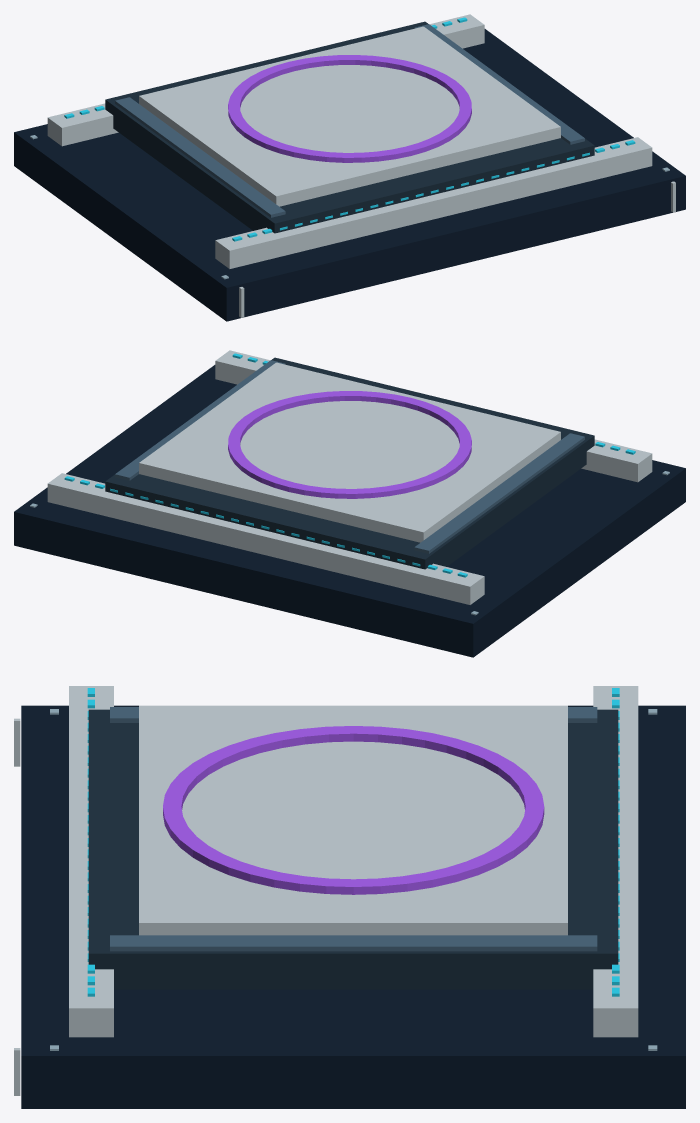
File: 20_L74_PrecisionReticleMotionStage.fbx
3 renders of one model, top to bottom at view 1: azimuth 30°, elevation 25°; view 2: azimuth 150°, elevation 25°; view 3: azimuth 270°, elevation 25°, orthographic. The views are drawn at different scales.
Parts seen in each view (by area): view 1: PrecisionReticleMotionStage, PrecisionReticleMotionStage_Part_0066, PrecisionReticleMotionStage_Part_0063, PrecisionReticleMotionStage_Part_0067, PrecisionReticleMotionStage_Part_0064, PrecisionReticleMotionStage_Part_0065; view 2: PrecisionReticleMotionStage, PrecisionReticleMotionStage_Part_0066, PrecisionReticleMotionStage_Part_0063, PrecisionReticleMotionStage_Part_0067, PrecisionReticleMotionStage_Part_0064, PrecisionReticleMotionStage_Part_0065; view 3: PrecisionReticleMotionStage, PrecisionReticleMotionStage_Part_0066, PrecisionReticleMotionStage_Part_0063, PrecisionReticleMotionStage_Part_0067, PrecisionReticleMotionStage_Part_0065, PrecisionReticleMotionStage_Part_0064.
Part boxes in pixels (left/top/right/bottom): PrecisionReticleMotionStage: left=14, top=14, right=685, bottom=321; PrecisionReticleMotionStage_Part_0066: left=139, top=26, right=560, bottom=206; PrecisionReticleMotionStage_Part_0063: left=105, top=21, right=594, bottom=233; PrecisionReticleMotionStage_Part_0067: left=228, top=55, right=471, bottom=162; PrecisionReticleMotionStage_Part_0064: left=115, top=97, right=285, bottom=217; PrecisionReticleMotionStage_Part_0065: left=414, top=24, right=584, bottom=144; PrecisionReticleMotionStage: left=14, top=350, right=685, bottom=657; PrecisionReticleMotionStage_Part_0066: left=139, top=362, right=560, bottom=542; PrecisionReticleMotionStage_Part_0063: left=105, top=357, right=594, bottom=569; PrecisionReticleMotionStage_Part_0067: left=228, top=391, right=471, bottom=498; PrecisionReticleMotionStage_Part_0064: left=414, top=433, right=584, bottom=553; PrecisionReticleMotionStage_Part_0065: left=115, top=360, right=285, bottom=480; PrecisionReticleMotionStage: left=14, top=686, right=685, bottom=1108; PrecisionReticleMotionStage_Part_0066: left=139, top=705, right=567, bottom=935; PrecisionReticleMotionStage_Part_0063: left=88, top=709, right=618, bottom=989; PrecisionReticleMotionStage_Part_0067: left=163, top=726, right=544, bottom=894; PrecisionReticleMotionStage_Part_0065: left=110, top=935, right=597, bottom=951; PrecisionReticleMotionStage_Part_0064: left=110, top=707, right=597, bottom=722.
Size of the model in its own units: 313 by 53 by 254.
